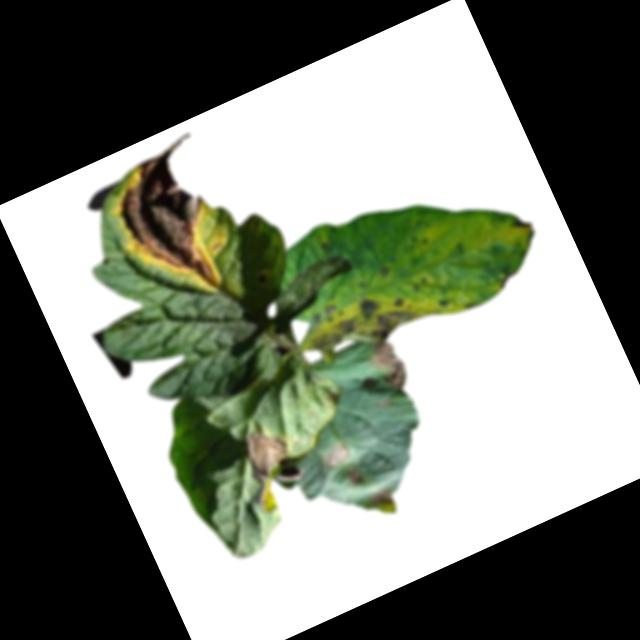Early_blight: (96, 130, 252, 308), (290, 262, 437, 369), (229, 419, 310, 516), (367, 337, 411, 394), (509, 211, 539, 245), (367, 486, 395, 514), (326, 442, 354, 468), (345, 463, 365, 486), (373, 395, 395, 414)
